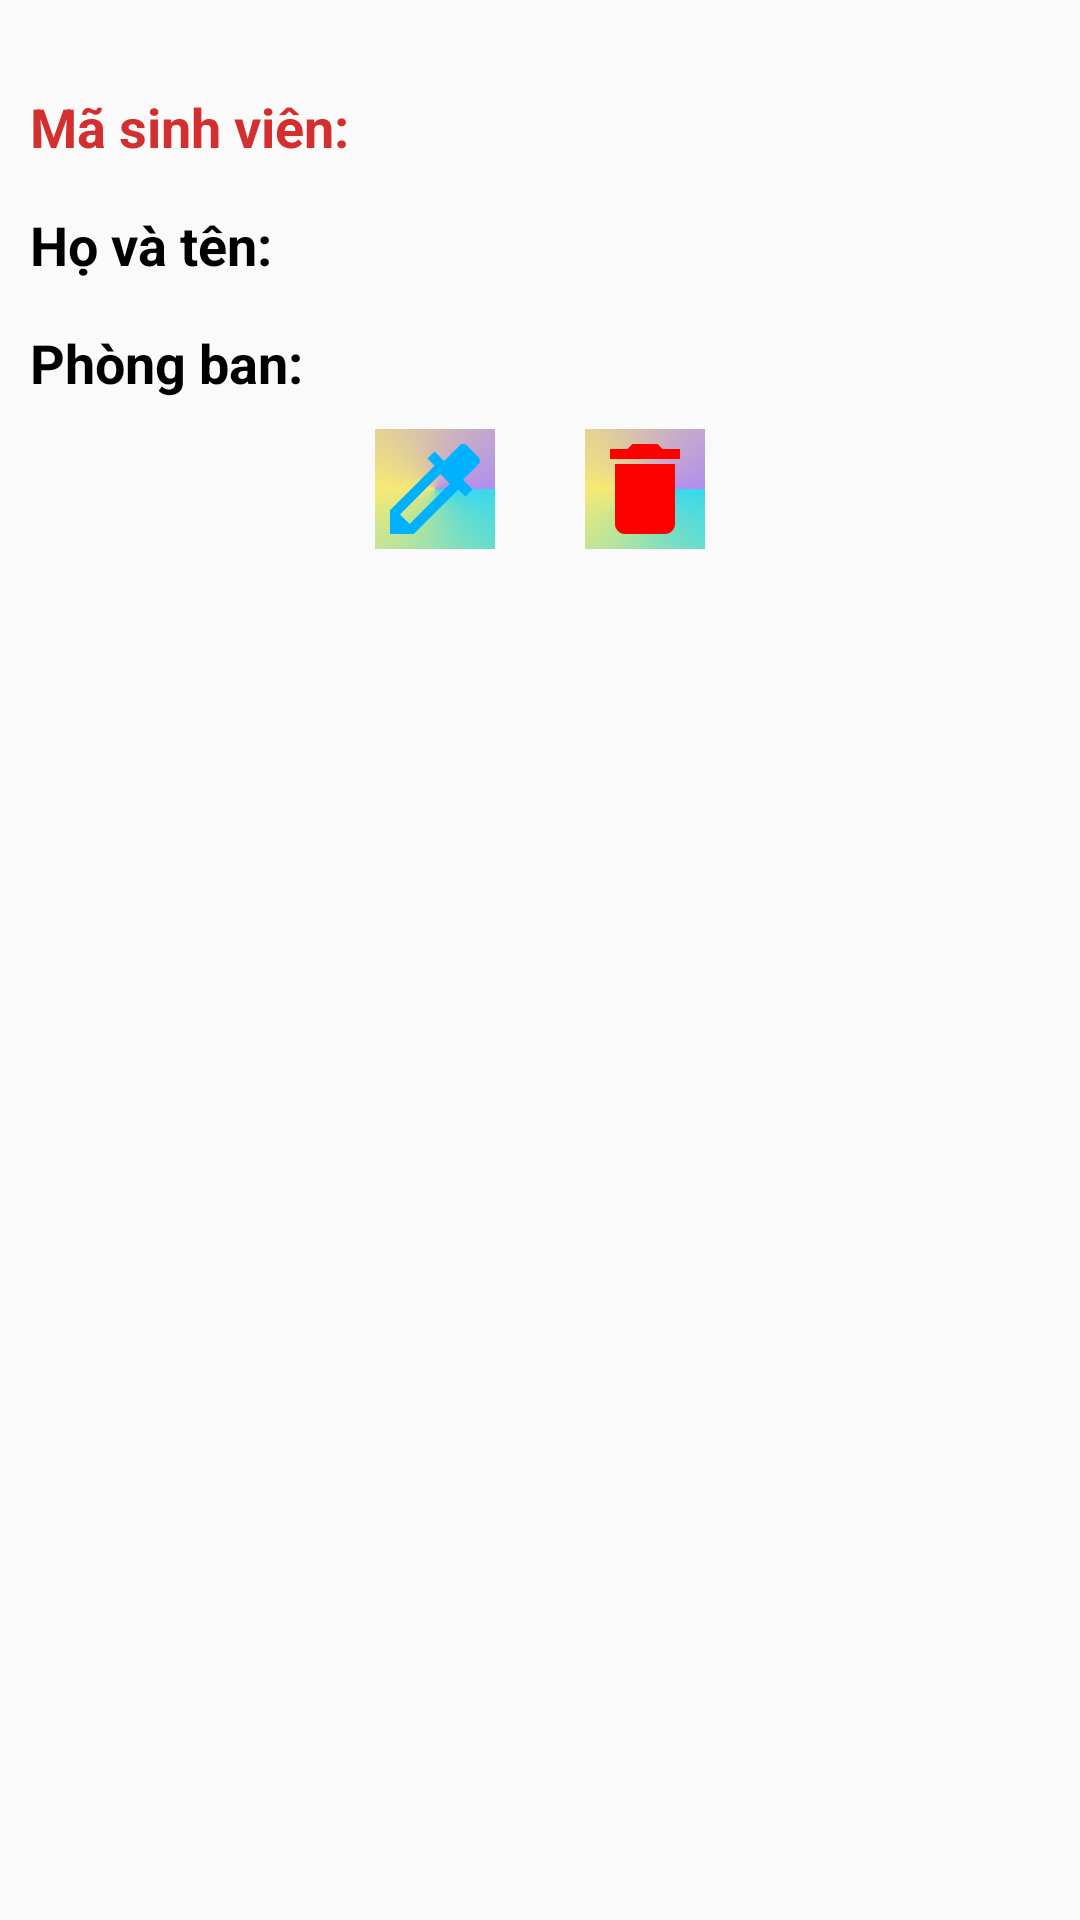

Where to tap for icons on this 1080 x 1920 app screen, as (x=x, y=y):
but colorize: (x=435, y=489)
thungrac delete: (x=645, y=489)
